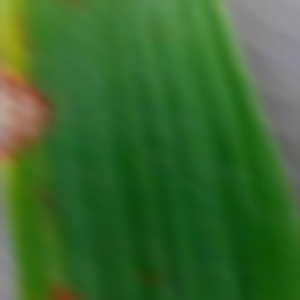Brown_Spot: (0, 60, 59, 157)
